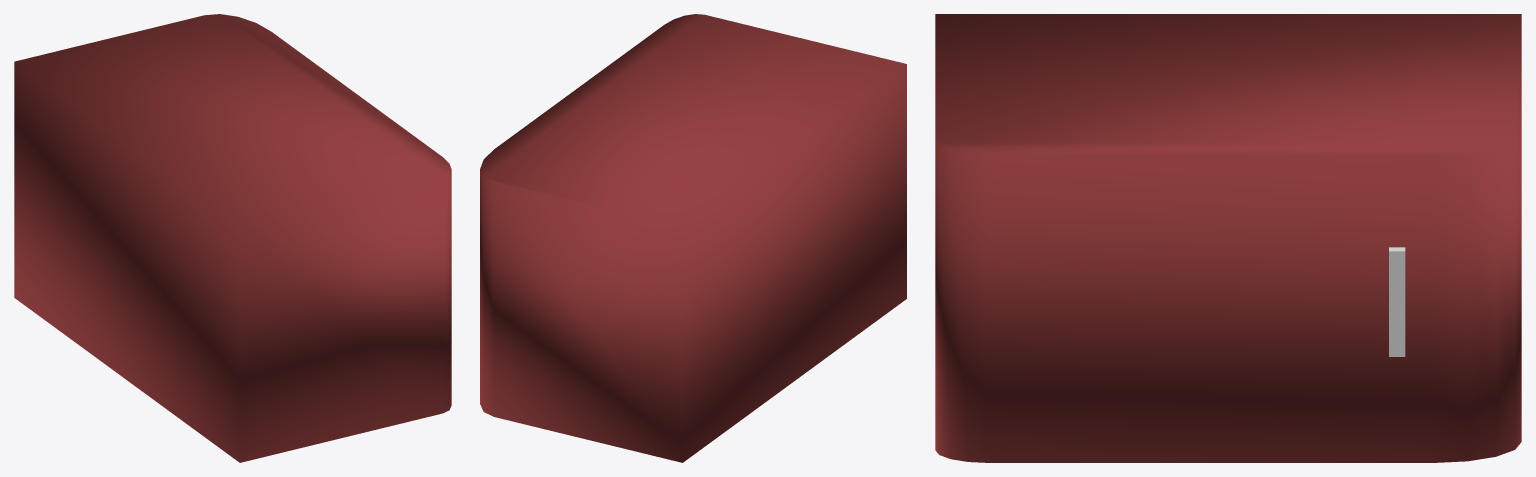
The model's file is meuble.glb.
3 renders of one model, left to right at view 1: azimuth 30°, elevation 25°; view 2: azimuth 150°, elevation 25°; view 3: azimuth 270°, elevation 25°, orthographic. The views are drawn at different scales.
Visible parts, largest first — view 1: Cube.006; view 2: Cube.006; view 3: Cube.006, Cube.007.
Boxes of the visible parts, box(x1,y1,x2,y2) form: Cube.006: box(14, 14, 451, 462); Cube.006: box(480, 14, 906, 462); Cube.006: box(935, 14, 1521, 462); Cube.007: box(1389, 247, 1405, 356).
Bounding box in the file's own units: 1.11 × 1.05 × 1.82.
